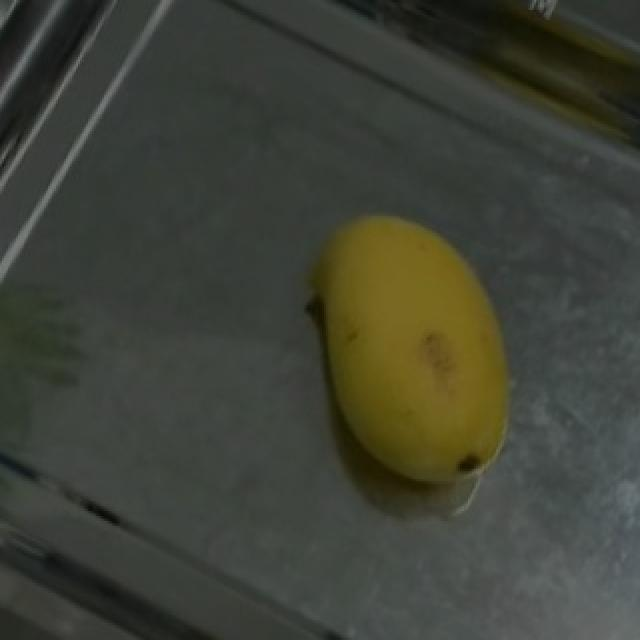fruit: (266, 166, 582, 524)
